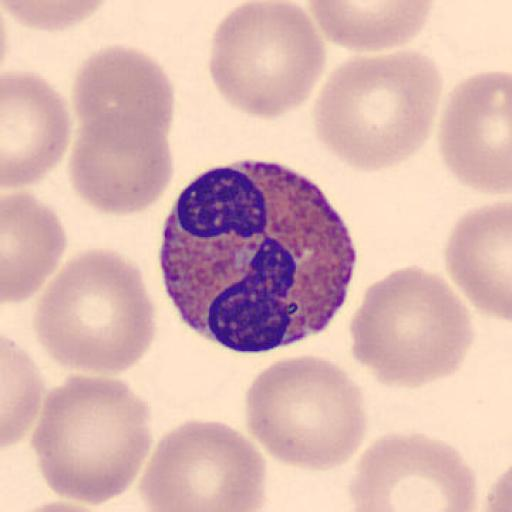RBC: (31, 373, 154, 507), (33, 246, 158, 376), (313, 48, 442, 173), (348, 264, 476, 389), (244, 353, 369, 472), (206, 0, 327, 120), (138, 417, 269, 512), (68, 108, 176, 216), (71, 44, 176, 155), (346, 430, 480, 512), (438, 68, 512, 196), (443, 198, 512, 321), (2, 68, 72, 189), (2, 190, 68, 306), (306, 0, 438, 52), (0, 332, 44, 451), (3, 0, 113, 32), (479, 462, 511, 512), (10, 500, 114, 512)
WBC: (159, 159, 359, 353)
